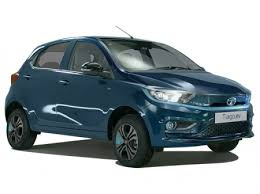Tiago: (4, 33, 253, 168)
